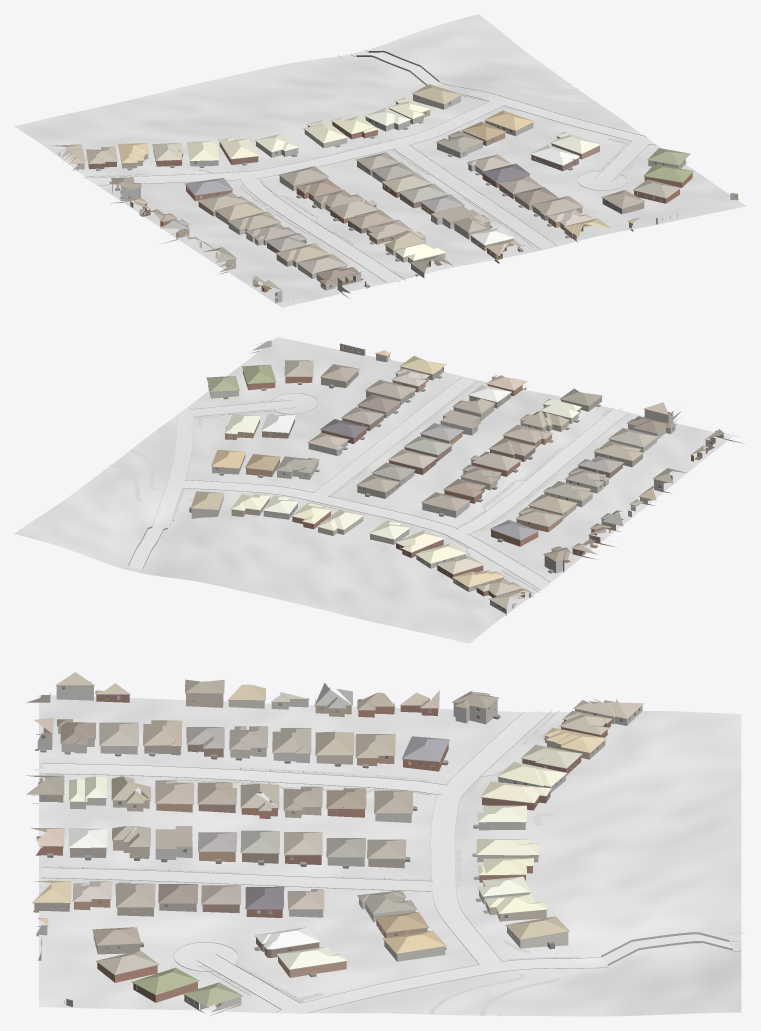
The picture shows the model from 3 angles, top to bottom: view 1: azimuth 30°, elevation 25°; view 2: azimuth 150°, elevation 25°; view 3: azimuth 270°, elevation 25°; orthographic projection. The views are drawn at different scales.
Parts seen in each view (by area): view 1: ground, roof, concrete, wall, detail, asphalt, curb, wall_stucco, walk, wall_stone; view 2: ground, roof, concrete, wall, detail, wall_stucco, asphalt, wall_stone, curb, walk; view 3: ground, roof, concrete, wall, detail, wall_stucco, asphalt, wall_stone, curb, walk, bridge, glass.
Boxes of the visible parts, x1=… form: ground: x1=14, y1=14, x2=746, y2=307; roof: x1=52, y1=84, x2=693, y2=290; concrete: x1=89, y1=101, x2=648, y2=282; wall: x1=88, y1=102, x2=692, y2=292; detail: x1=75, y1=94, x2=693, y2=301; asphalt: x1=352, y1=50, x2=655, y2=144; curb: x1=84, y1=50, x2=655, y2=282; wall_stucco: x1=71, y1=94, x2=533, y2=298; walk: x1=85, y1=54, x2=641, y2=278; wall_stone: x1=110, y1=137, x2=737, y2=303; ground: x1=14, y1=337, x2=732, y2=643; roof: x1=191, y1=350, x2=724, y2=609; concrete: x1=183, y1=377, x2=626, y2=588; wall: x1=225, y1=343, x2=742, y2=597; detail: x1=189, y1=341, x2=739, y2=610; wall_stucco: x1=191, y1=409, x2=681, y2=615; asphalt: x1=126, y1=407, x2=193, y2=571; wall_stone: x1=208, y1=340, x2=714, y2=573; curb: x1=126, y1=377, x2=627, y2=592; walk: x1=103, y1=384, x2=612, y2=591; ground: x1=39, y1=694, x2=741, y2=1016; roof: x1=26, y1=672, x2=643, y2=1006; concrete: x1=33, y1=711, x2=548, y2=1009; wall: x1=26, y1=693, x2=610, y2=1002; detail: x1=31, y1=685, x2=643, y2=1005; wall_stucco: x1=35, y1=700, x2=642, y2=961; asphalt: x1=276, y1=934, x2=740, y2=1013; wall_stone: x1=36, y1=685, x2=497, y2=1015; curb: x1=34, y1=710, x2=740, y2=1013; walk: x1=39, y1=712, x2=745, y2=1016; bridge: x1=601, y1=932, x2=732, y2=965; glass: x1=41, y1=686, x2=639, y2=1005.
Bounding box in the file's own units: 265 × 22.37 × 261.
